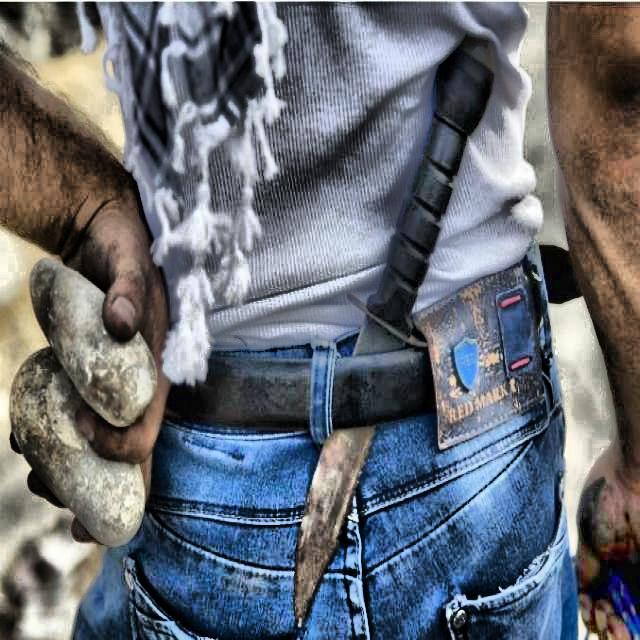knife: (294, 38, 498, 623)
